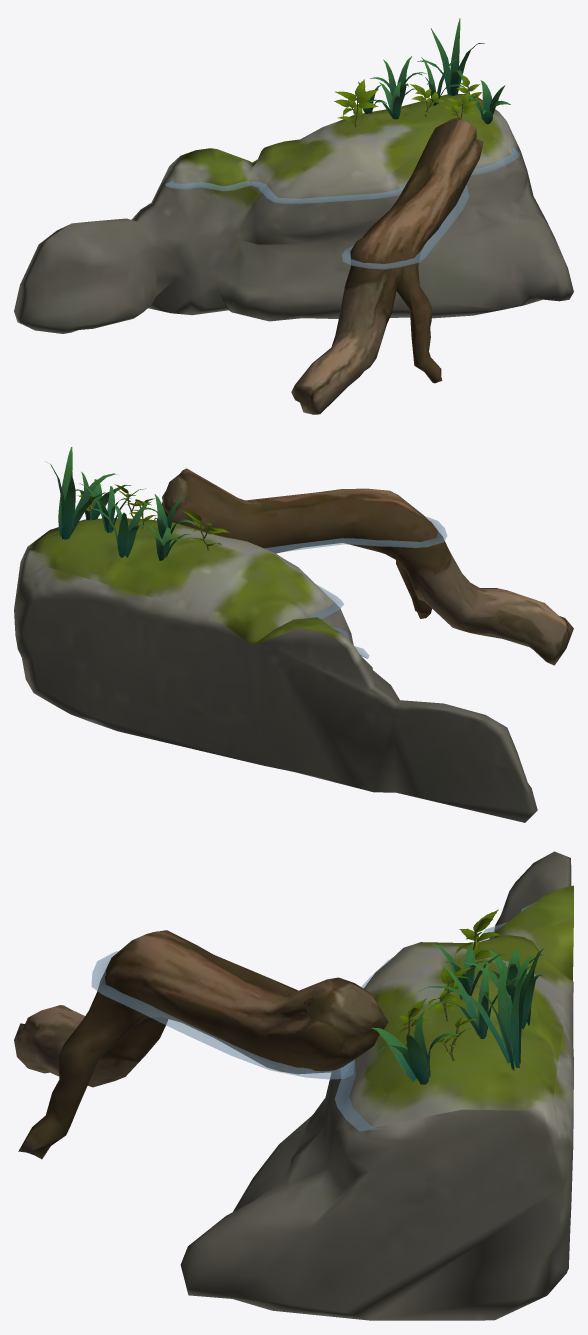
The model's file is driftwood-rock.glb.
The picture shows the model from 3 angles, top to bottom: view 1: azimuth 30°, elevation 25°; view 2: azimuth 150°, elevation 25°; view 3: azimuth 270°, elevation 25°; orthographic projection. The views are drawn at different scales.
Bounding box in the file's own units: 61.42 × 27.94 × 40.69.
Materials: 4 (3 with a texture image).
